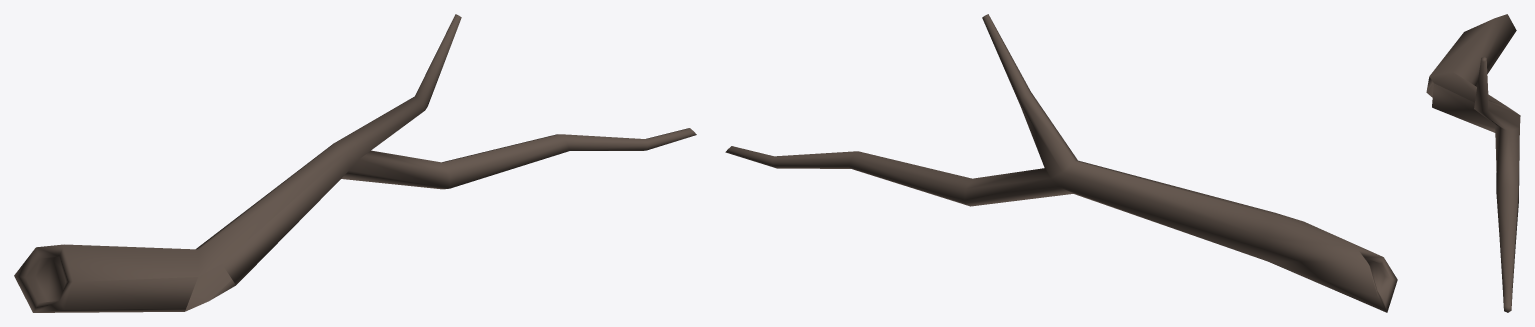
The picture shows the model from 3 angles, left to right: view 1: azimuth 30°, elevation 25°; view 2: azimuth 150°, elevation 25°; view 3: azimuth 270°, elevation 25°; orthographic projection. The views are drawn at different scales.
Parts seen in each view (by area): view 1: branch; view 2: branch; view 3: branch.
Part boxes in pixels (box(x1,y1,x2,y2)): branch: box(14, 14, 696, 312); branch: box(725, 14, 1397, 312); branch: box(1426, 14, 1520, 312).
Bounding box in the file's own units: 3.2 × 0.9408 × 0.4777.
